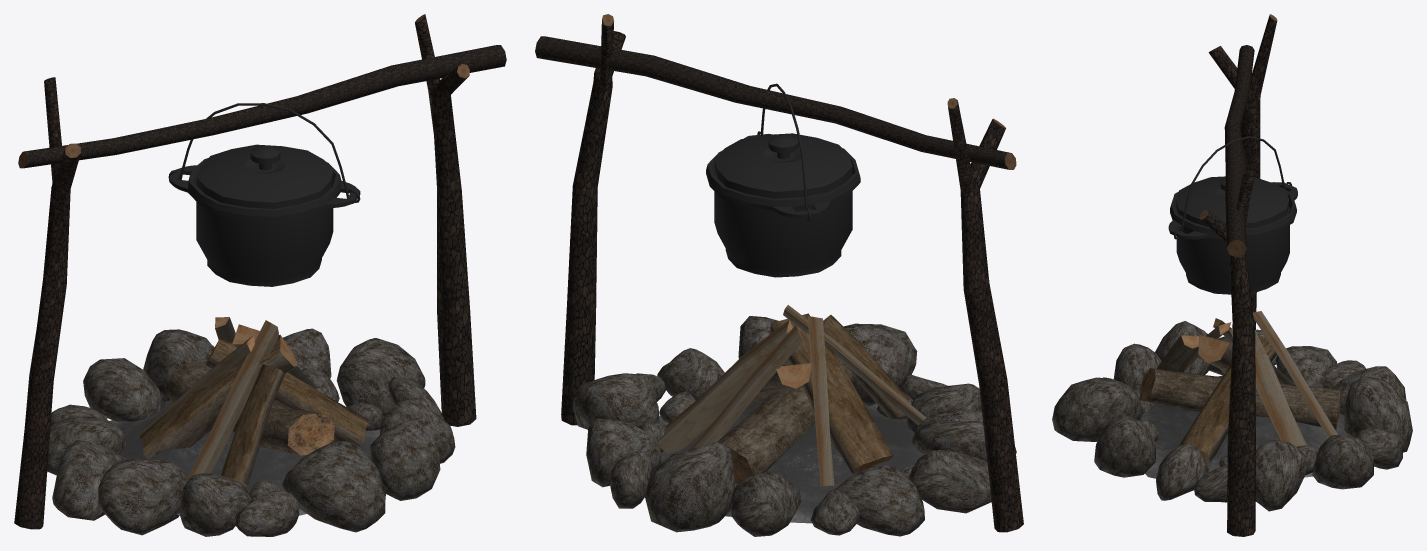
3 views of the same model, side by side, from view 1: azimuth 30°, elevation 25°; view 2: azimuth 150°, elevation 25°; view 3: azimuth 270°, elevation 25° (orthographic). The views are drawn at different scales.
Parts seen in each view (by area): view 1: Cylinder015_10 - Default_0, pillar2, Pillar1, crossbar, Cylinder016, GeoSphere010, GeoSphere005, half_wood, GeoSphere008, GeoSphere009, Cylinder004, GeoSphere002 (+17 smaller); view 2: Pillar1, Cylinder015_10 - Default_0, pillar2, crossbar, Cylinder016, rock, ashes, half_wood, Cylinder004, GeoSphere003, GeoSphere017, quad_wood4 (+18 smaller); view 3: pillar2, Cylinder015_10 - Default_0, Cylinder004, GeoSphere010, crossbar, ashes, Cylinder016, rock, Pillar1, GeoSphere008, GeoSphere009, GeoSphere004 (+14 smaller).
Boxes of the visible parts, left/top/right/bottom form: Cylinder015_10 - Default_0: left=169, top=158, right=360, bottom=286; pillar2: left=415, top=14, right=476, bottom=426; Pillar1: left=14, top=77, right=80, bottom=529; crossbar: left=18, top=45, right=506, bottom=168; Cylinder016: left=196, top=144, right=333, bottom=208; GeoSphere010: left=282, top=441, right=385, bottom=532; GeoSphere005: left=98, top=458, right=188, bottom=535; half_wood: left=139, top=334, right=297, bottom=459; GeoSphere008: left=370, top=417, right=440, bottom=500; GeoSphere009: left=336, top=338, right=425, bottom=417; Cylinder004: left=165, top=361, right=334, bottom=455; GeoSphere002: left=83, top=358, right=164, bottom=421; Pillar1: left=947, top=98, right=1023, bottom=532; Cylinder015_10 - Default_0: left=706, top=134, right=860, bottom=277; pillar2: left=561, top=14, right=625, bottom=425; crossbar: left=535, top=36, right=1016, bottom=169; Cylinder016: left=714, top=133, right=852, bottom=198; rock: left=644, top=441, right=735, bottom=532; ashes: left=659, top=399, right=924, bottom=523; half_wood: left=769, top=313, right=893, bottom=473; Cylinder004: left=717, top=358, right=854, bottom=484; GeoSphere003: left=835, top=465, right=924, bottom=536; GeoSphere017: left=909, top=449, right=991, bottom=513; quad_wood4: left=657, top=319, right=797, bottom=453; pillar2: left=1199, top=174, right=1255, bottom=536; Cylinder015_10 - Default_0: left=1168, top=182, right=1297, bottom=294; Cylinder004: left=1139, top=368, right=1341, bottom=430; GeoSphere010: left=1052, top=377, right=1142, bottom=441; crossbar: left=1224, top=45, right=1254, bottom=257; ashes: left=1140, top=375, right=1347, bottom=478; Cylinder016: left=1176, top=176, right=1289, bottom=228; rock: left=1344, top=376, right=1412, bottom=452; Pillar1: left=1208, top=14, right=1277, bottom=329; GeoSphere008: left=1094, top=416, right=1155, bottom=477; GeoSphere009: left=1255, top=440, right=1308, bottom=511; GeoSphere004: left=1312, top=434, right=1374, bottom=489.
Bounding box in the file's own units: 106 × 90.61 × 82.16.
9 materials, 8 textured.
